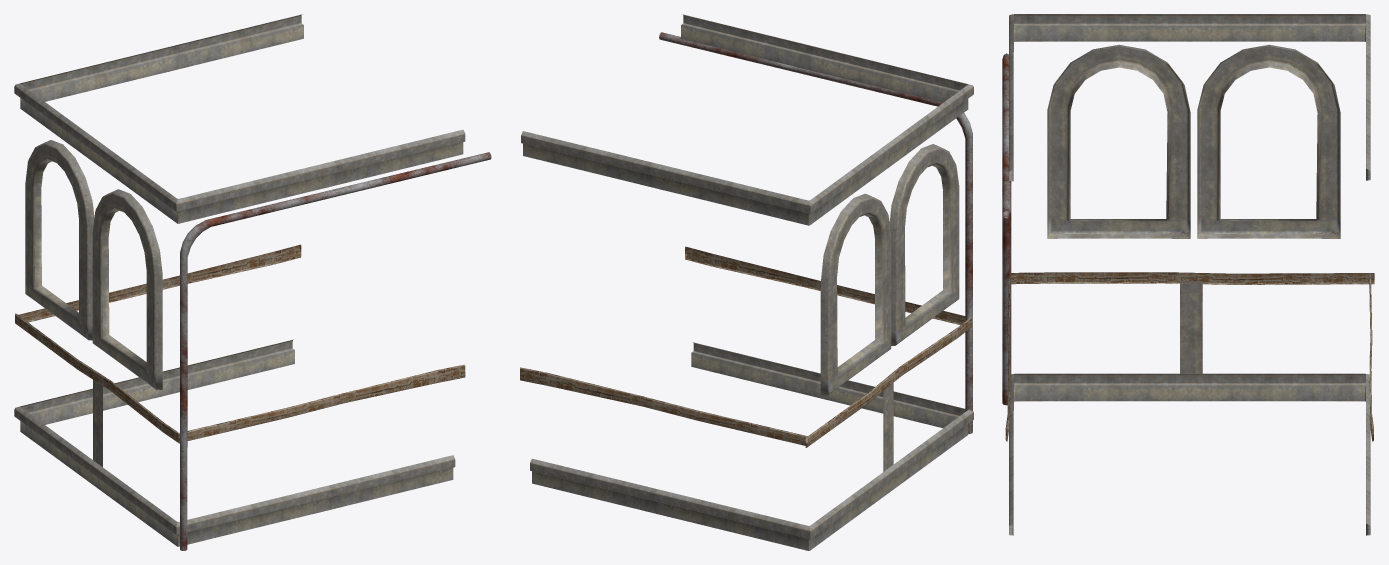
The model's file is Old_house_part_trim.fbx.
3 views of the same model, side by side, from view 1: azimuth 30°, elevation 25°; view 2: azimuth 150°, elevation 25°; view 3: azimuth 270°, elevation 25° (orthographic). The views are drawn at different scales.
Parts seen in each view (by area): view 1: Object013; view 2: Object013; view 3: Object013.
Boxes of the visible parts, bbox=[...] form: Object013: bbox=[14, 14, 491, 550]; Object013: bbox=[520, 14, 973, 550]; Object013: bbox=[1002, 14, 1374, 535].
Size of the model in its own units: 2318 by 2441 by 2121.
